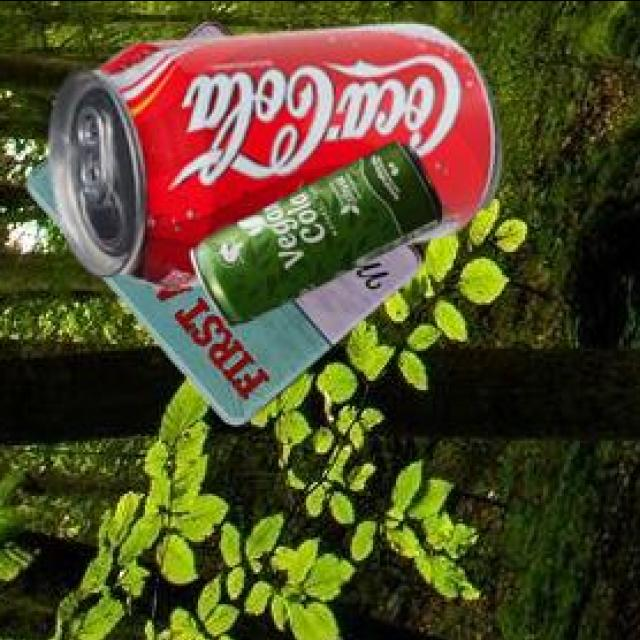logam: (24, 22, 420, 427), (47, 26, 498, 291), (188, 144, 439, 328)
